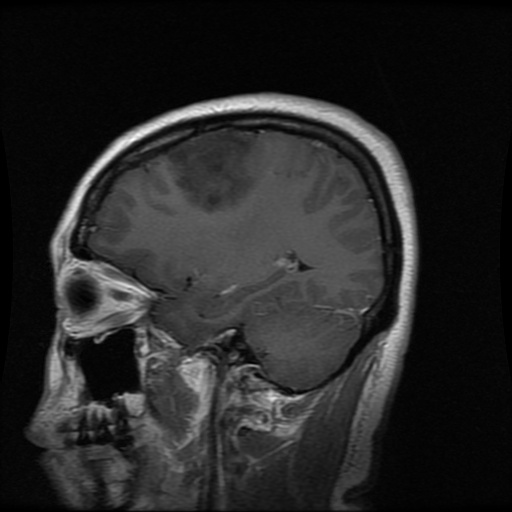glioma: (170, 128, 256, 211)
